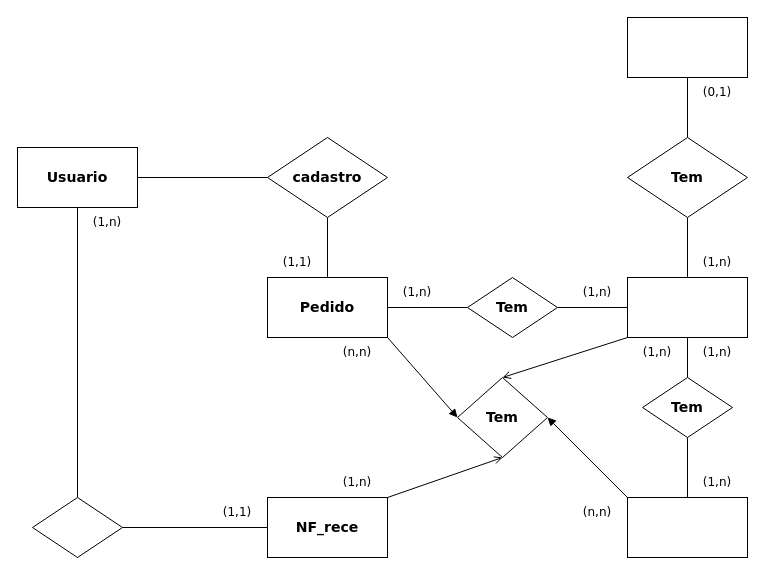
The diagram is 765 pixels wide and 575 high, and some of its shapes have lost their labels. Each missing label, with the box of its shape:
Cadastra: (32, 496, 122, 558)
Item: (626, 276, 748, 338)
NF_exp: (626, 496, 748, 558)
Posi_estoque: (626, 16, 748, 78)
